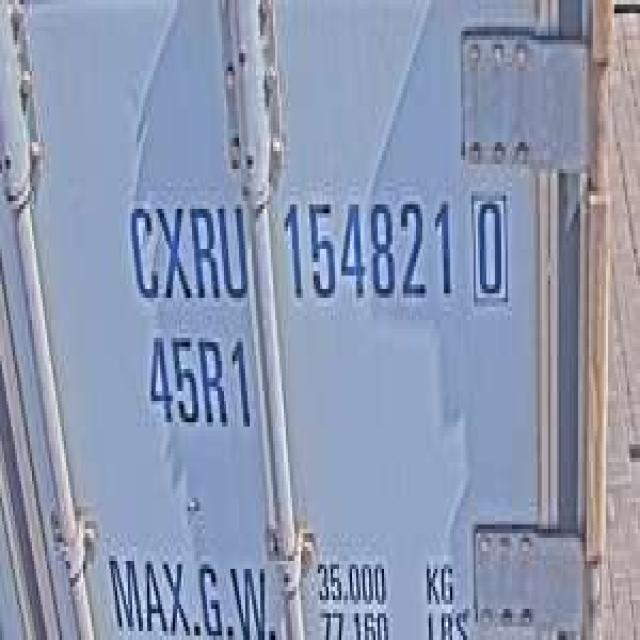dv: (467, 173, 512, 311)
owner: (123, 182, 250, 311)
serial: (277, 178, 459, 316)
size: (141, 320, 258, 440)
